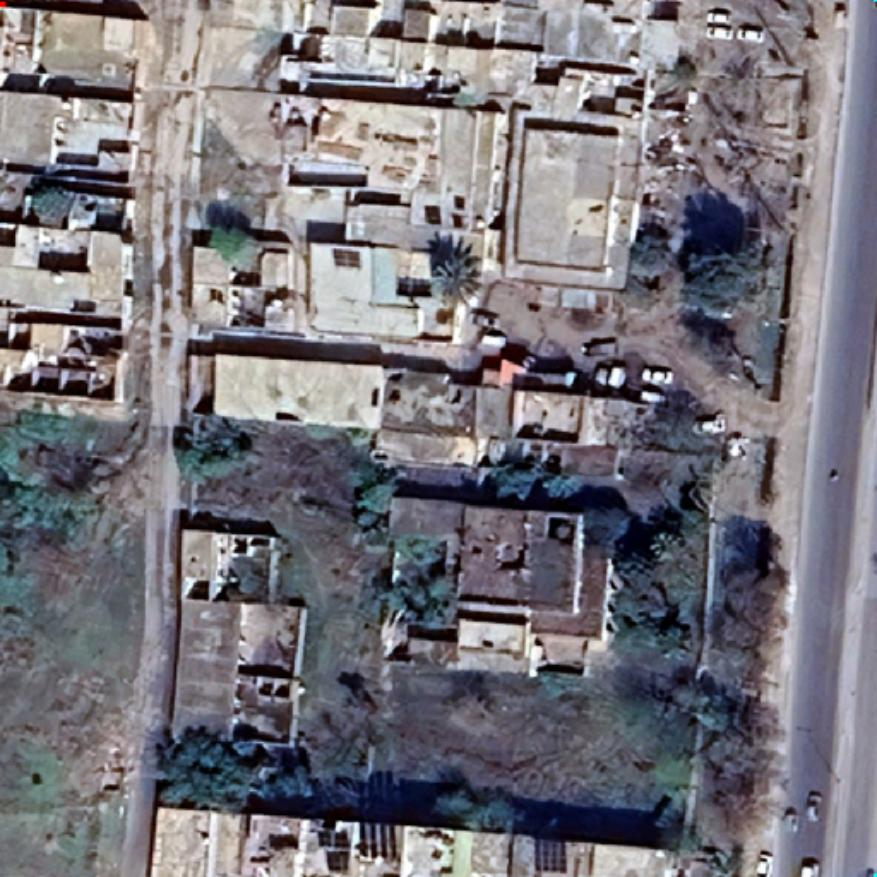Solarpanel: (354, 816, 402, 864), (314, 823, 354, 875), (531, 832, 571, 876), (331, 246, 363, 272)
